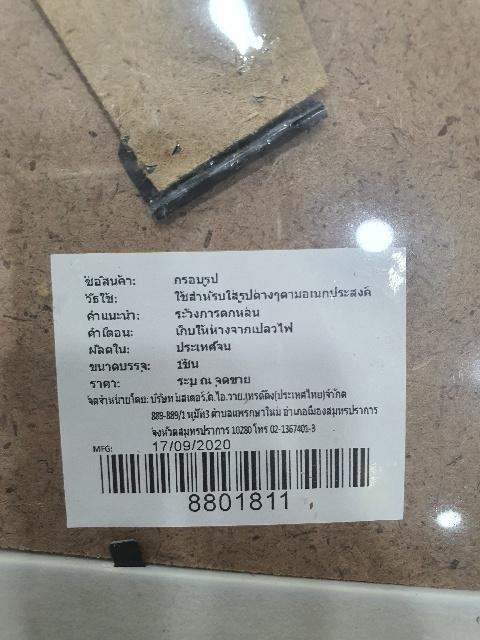Barcode: (85, 444, 379, 515)
